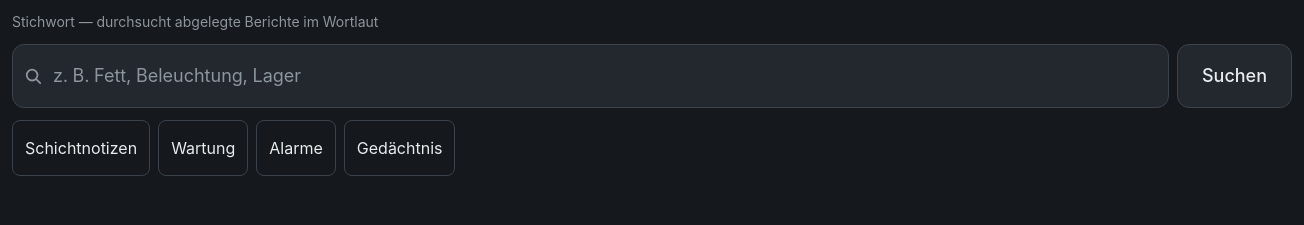
Scenario: MemorySearchBar (Archiv) › alle Quellen deaktiviert → Absenden gesperrt mit Hinweis
Step 1. Click the button "Schichtnotizen" → (81, 148), box [12,120,150,176]
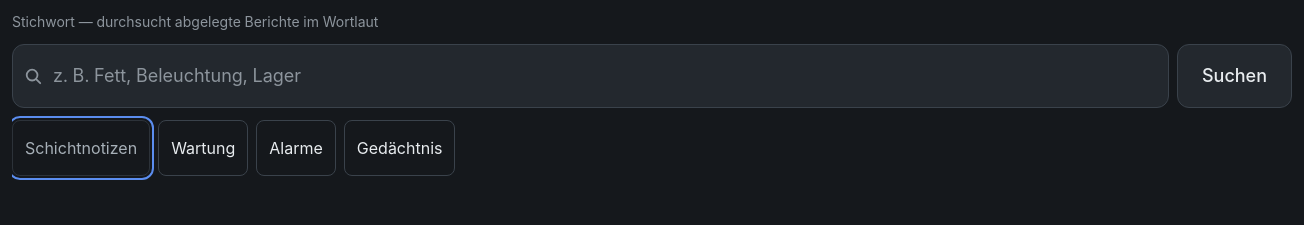
Step 2. Click the button "Wartung" → (203, 148), box [158,120,248,176]
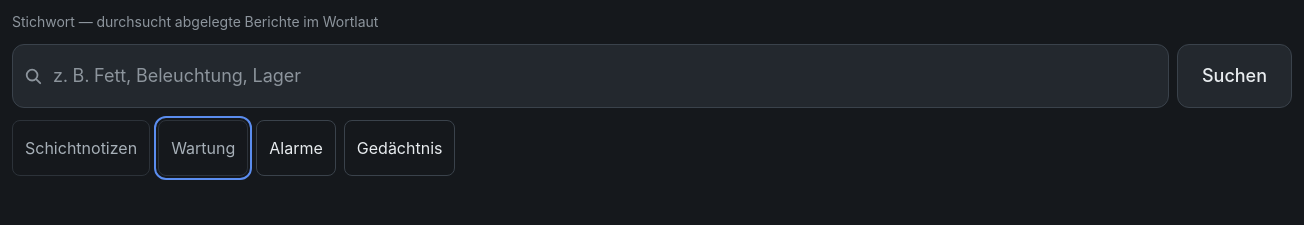
Step 3. Click the button "Alarme" → (296, 148), box [256,120,336,176]
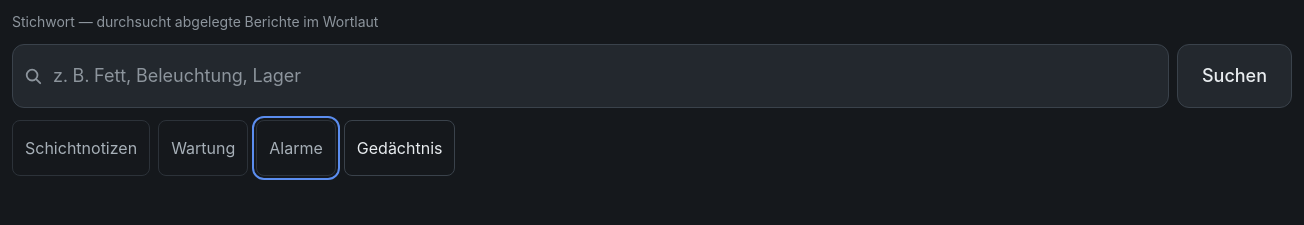
Step 4. Click the button "Gedächtnis" → (400, 148), box [344,120,456,176]
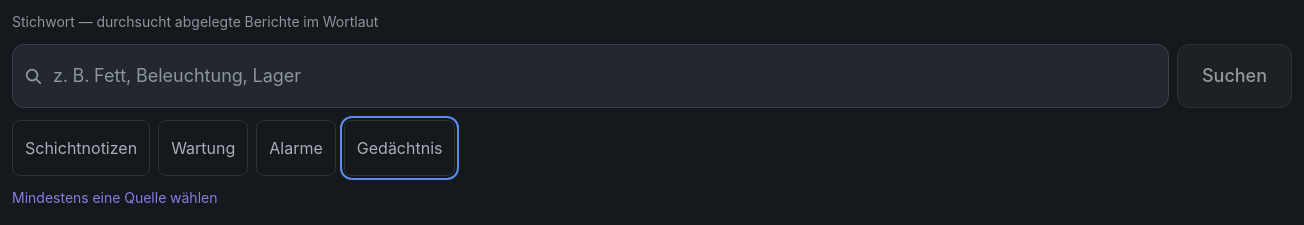
Result: the button "Suchen" is disabled at [1177,44,1292,108]
Result: the text "Mindestens eine Quelle wählen" is shown at [12,188,218,209]
